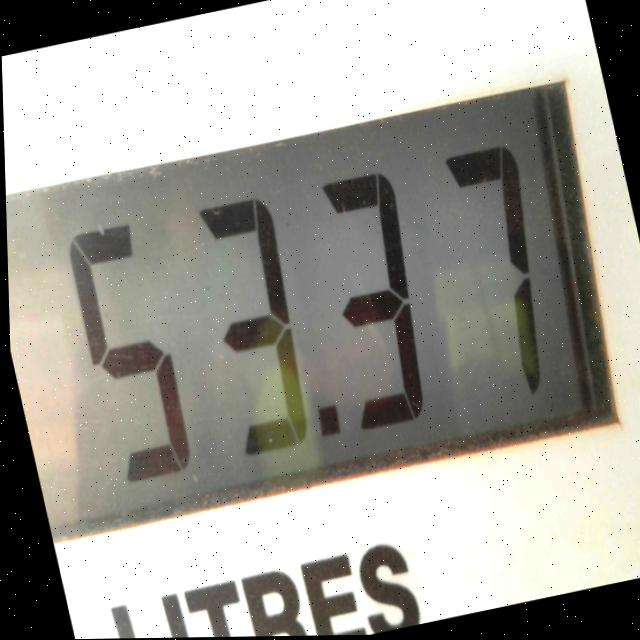.: (311, 409, 357, 470)
3: (299, 166, 449, 441), (195, 190, 318, 461)
5: (67, 221, 200, 496)
7: (441, 143, 569, 416)
